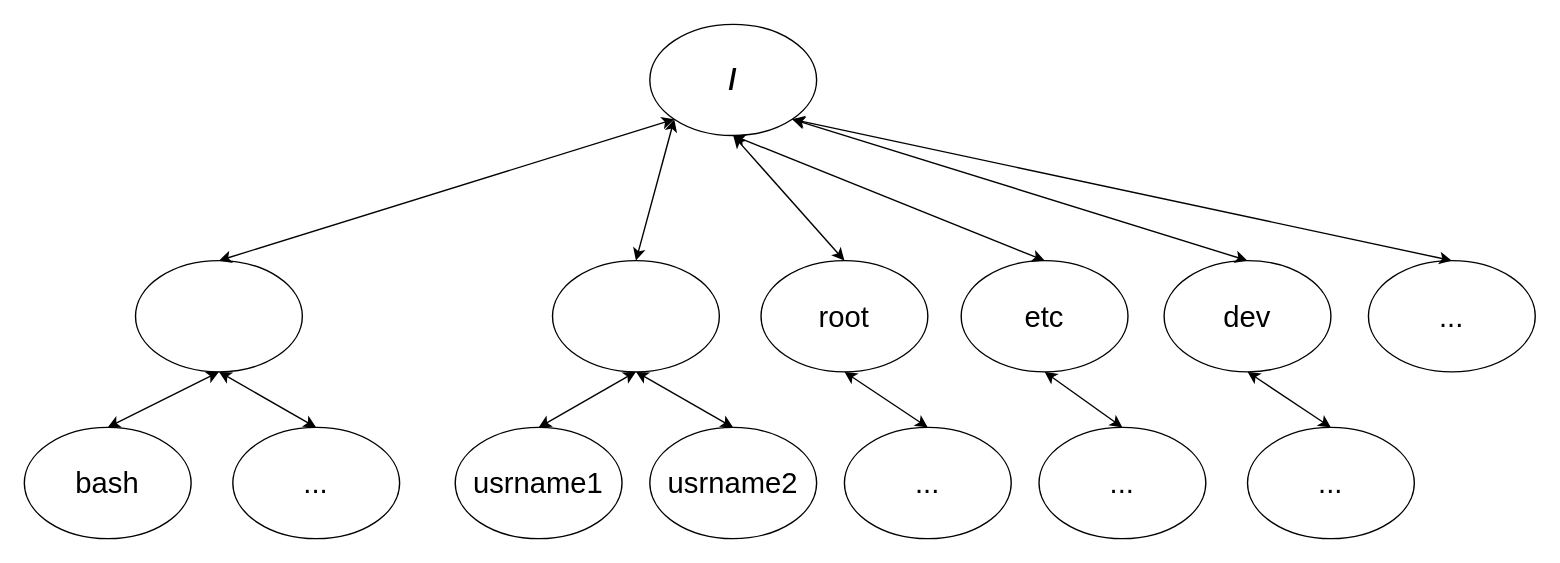
Some shapes in this 1560 by 563 pixel diagram are drawn without their labels. Each missing label, with the centre of its shape:
"bin" goes at point 218,315.
"home" goes at point 635,315.
